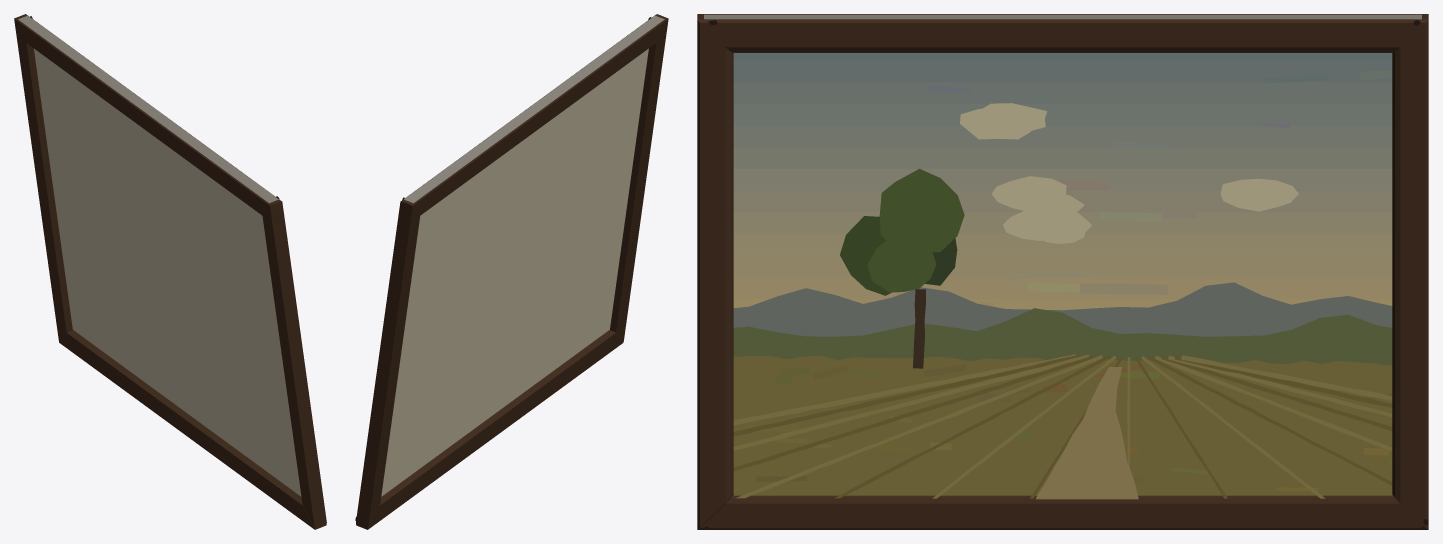
File: painting_lean_a.glb
3 views of the same model, side by side, from view 1: azimuth 30°, elevation 25°; view 2: azimuth 150°, elevation 25°; view 3: azimuth 270°, elevation 25° (orthographic). The views are drawn at different scales.
Visible parts, largest first — view 1: bild; view 2: bild; view 3: bild.
Part boxes in pixels (x1,y1,x2,y2): bild: (14, 14, 326, 529); bild: (355, 14, 668, 529); bild: (697, 14, 1428, 529).
Bounding box in the file's own units: 0.1546 × 0.8073 × 1.11.
